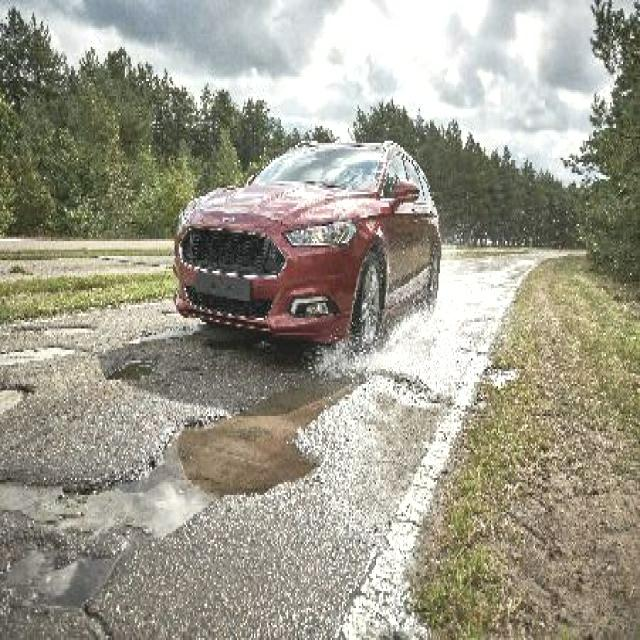Pothole: (143, 412, 318, 499), (0, 341, 77, 367), (104, 354, 158, 380), (0, 380, 35, 414)
